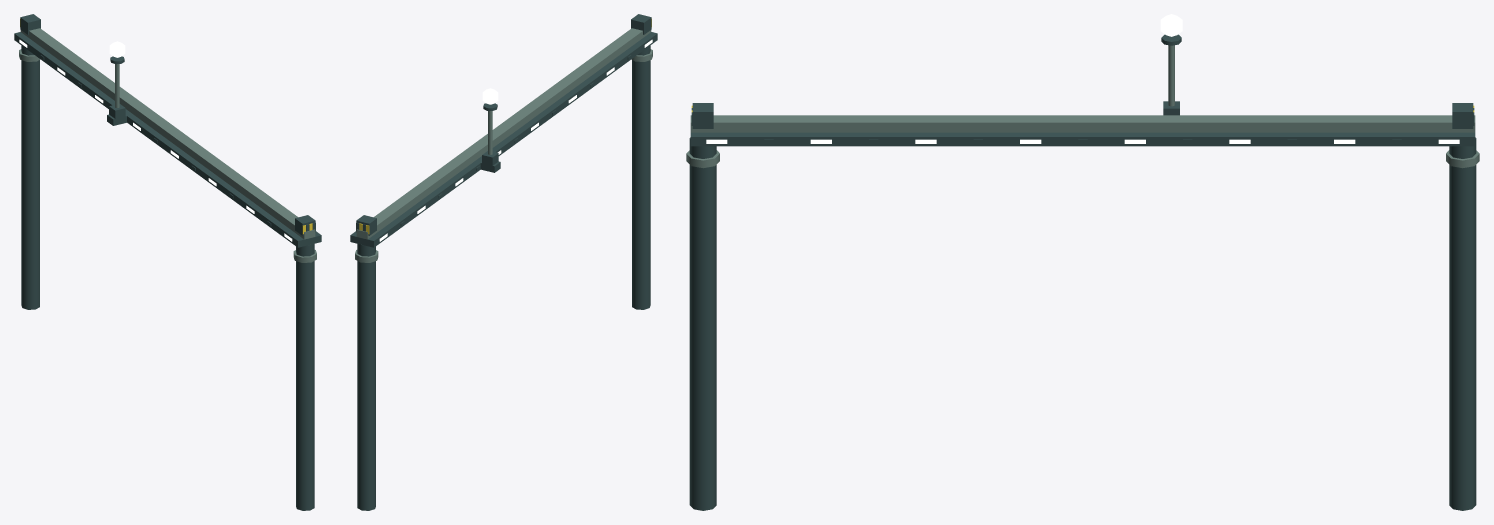
Rendered from Relay_Ferry_Rail_v3_lab.glb.
3 renders of one model, left to right at view 1: azimuth 30°, elevation 25°; view 2: azimuth 150°, elevation 25°; view 3: azimuth 270°, elevation 25°, orthographic. The views are drawn at different scales.
Parts seen in each view (by area): view 1: Relay_Ferry_Rail_v3; view 2: Relay_Ferry_Rail_v3; view 3: Relay_Ferry_Rail_v3.
Boxes of the visible parts, left/top/right/bottom form: Relay_Ferry_Rail_v3: left=14, top=14, right=321, bottom=510; Relay_Ferry_Rail_v3: left=350, top=14, right=657, bottom=510; Relay_Ferry_Rail_v3: left=686, top=34, right=1479, bottom=510.
Bounding box in the file's own units: 1.44 × 12.52 × 18.8.
